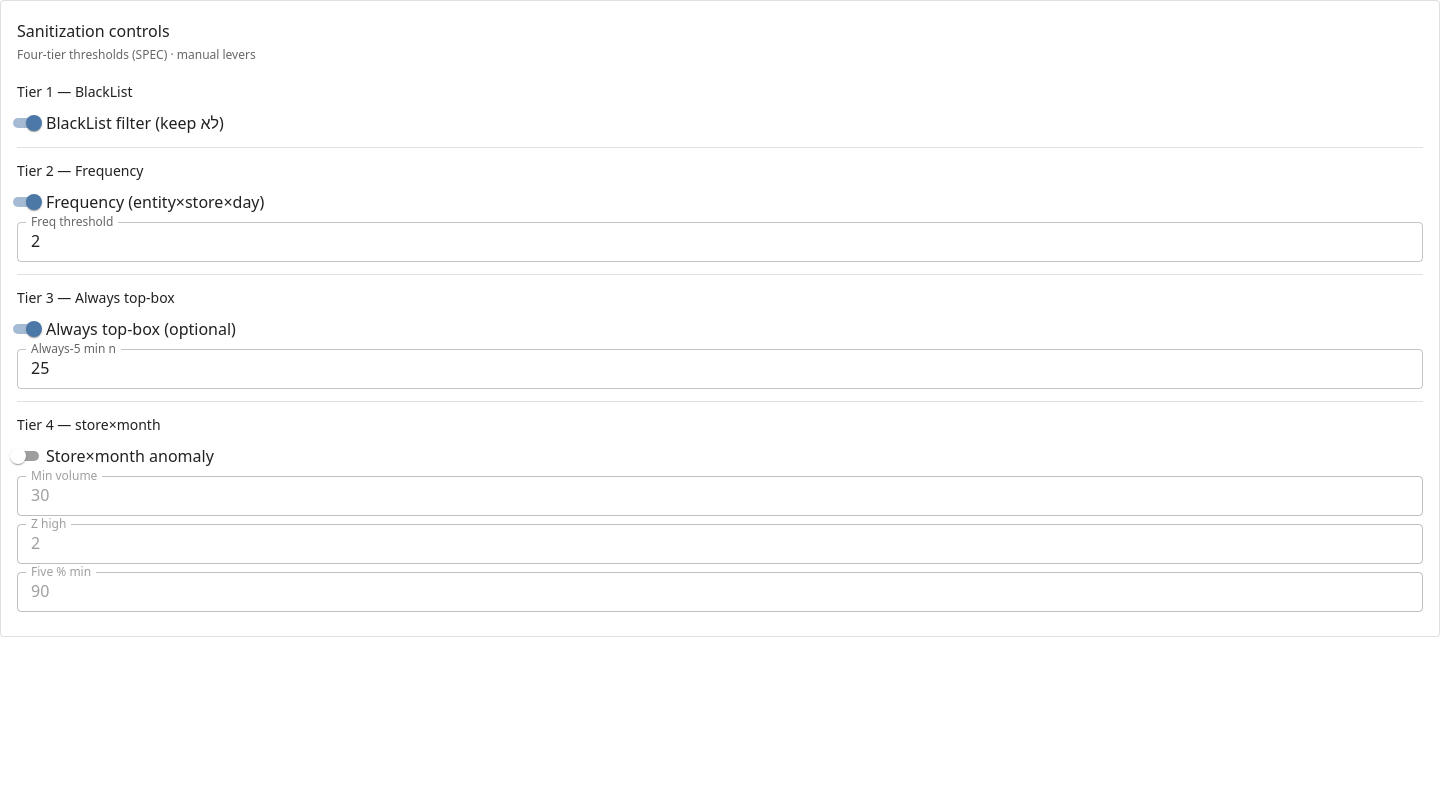
Test: ConfigForm › disables freq threshold input when frequency filter is off
The image size is (1440, 810).
Click the checkbox named "Tier 2 frequency filter": (139, 202) x1=13 y1=191 x2=264 y2=213
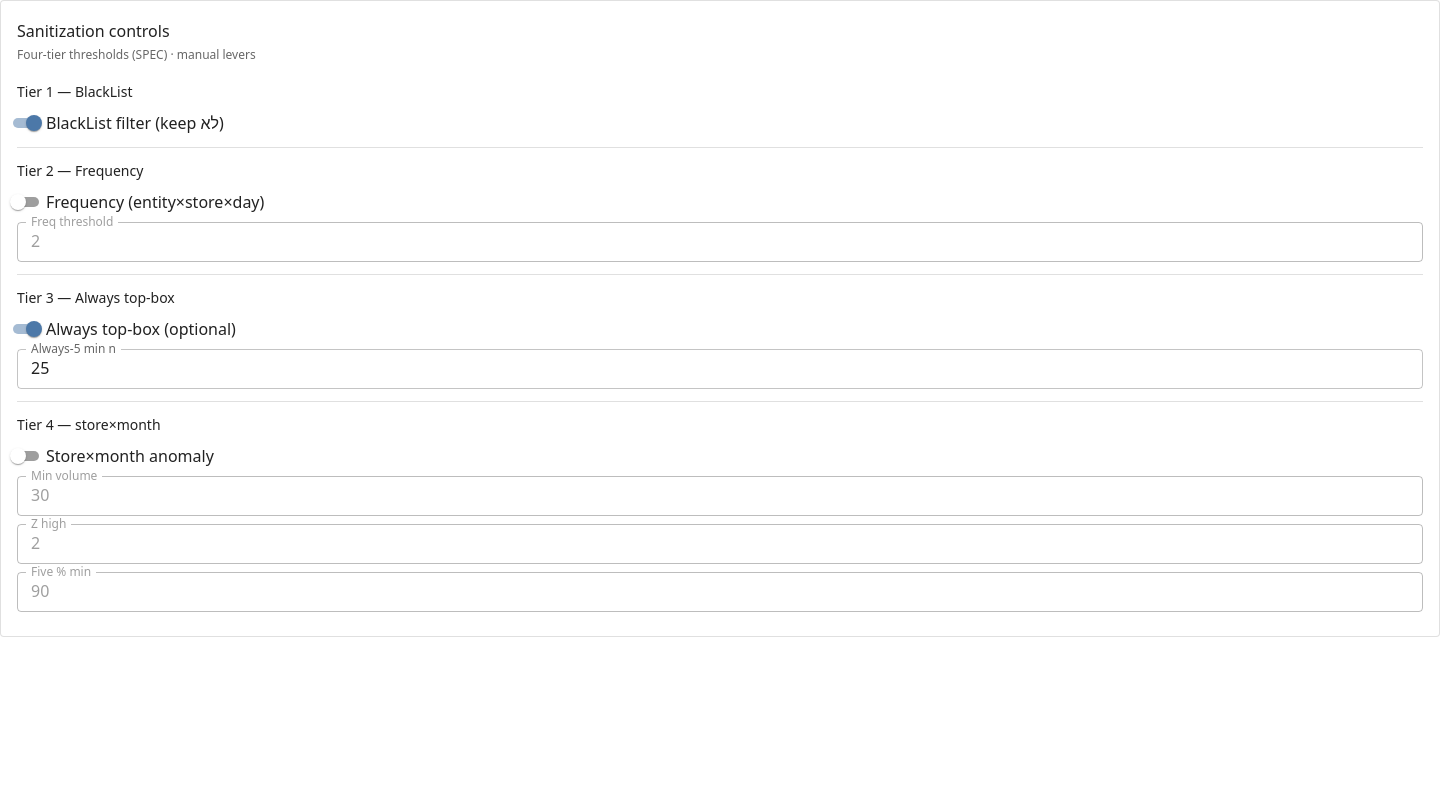
expect the number field labelled "Freq threshold" is disabled: met, box x1=17 y1=222 x2=1423 y2=262
